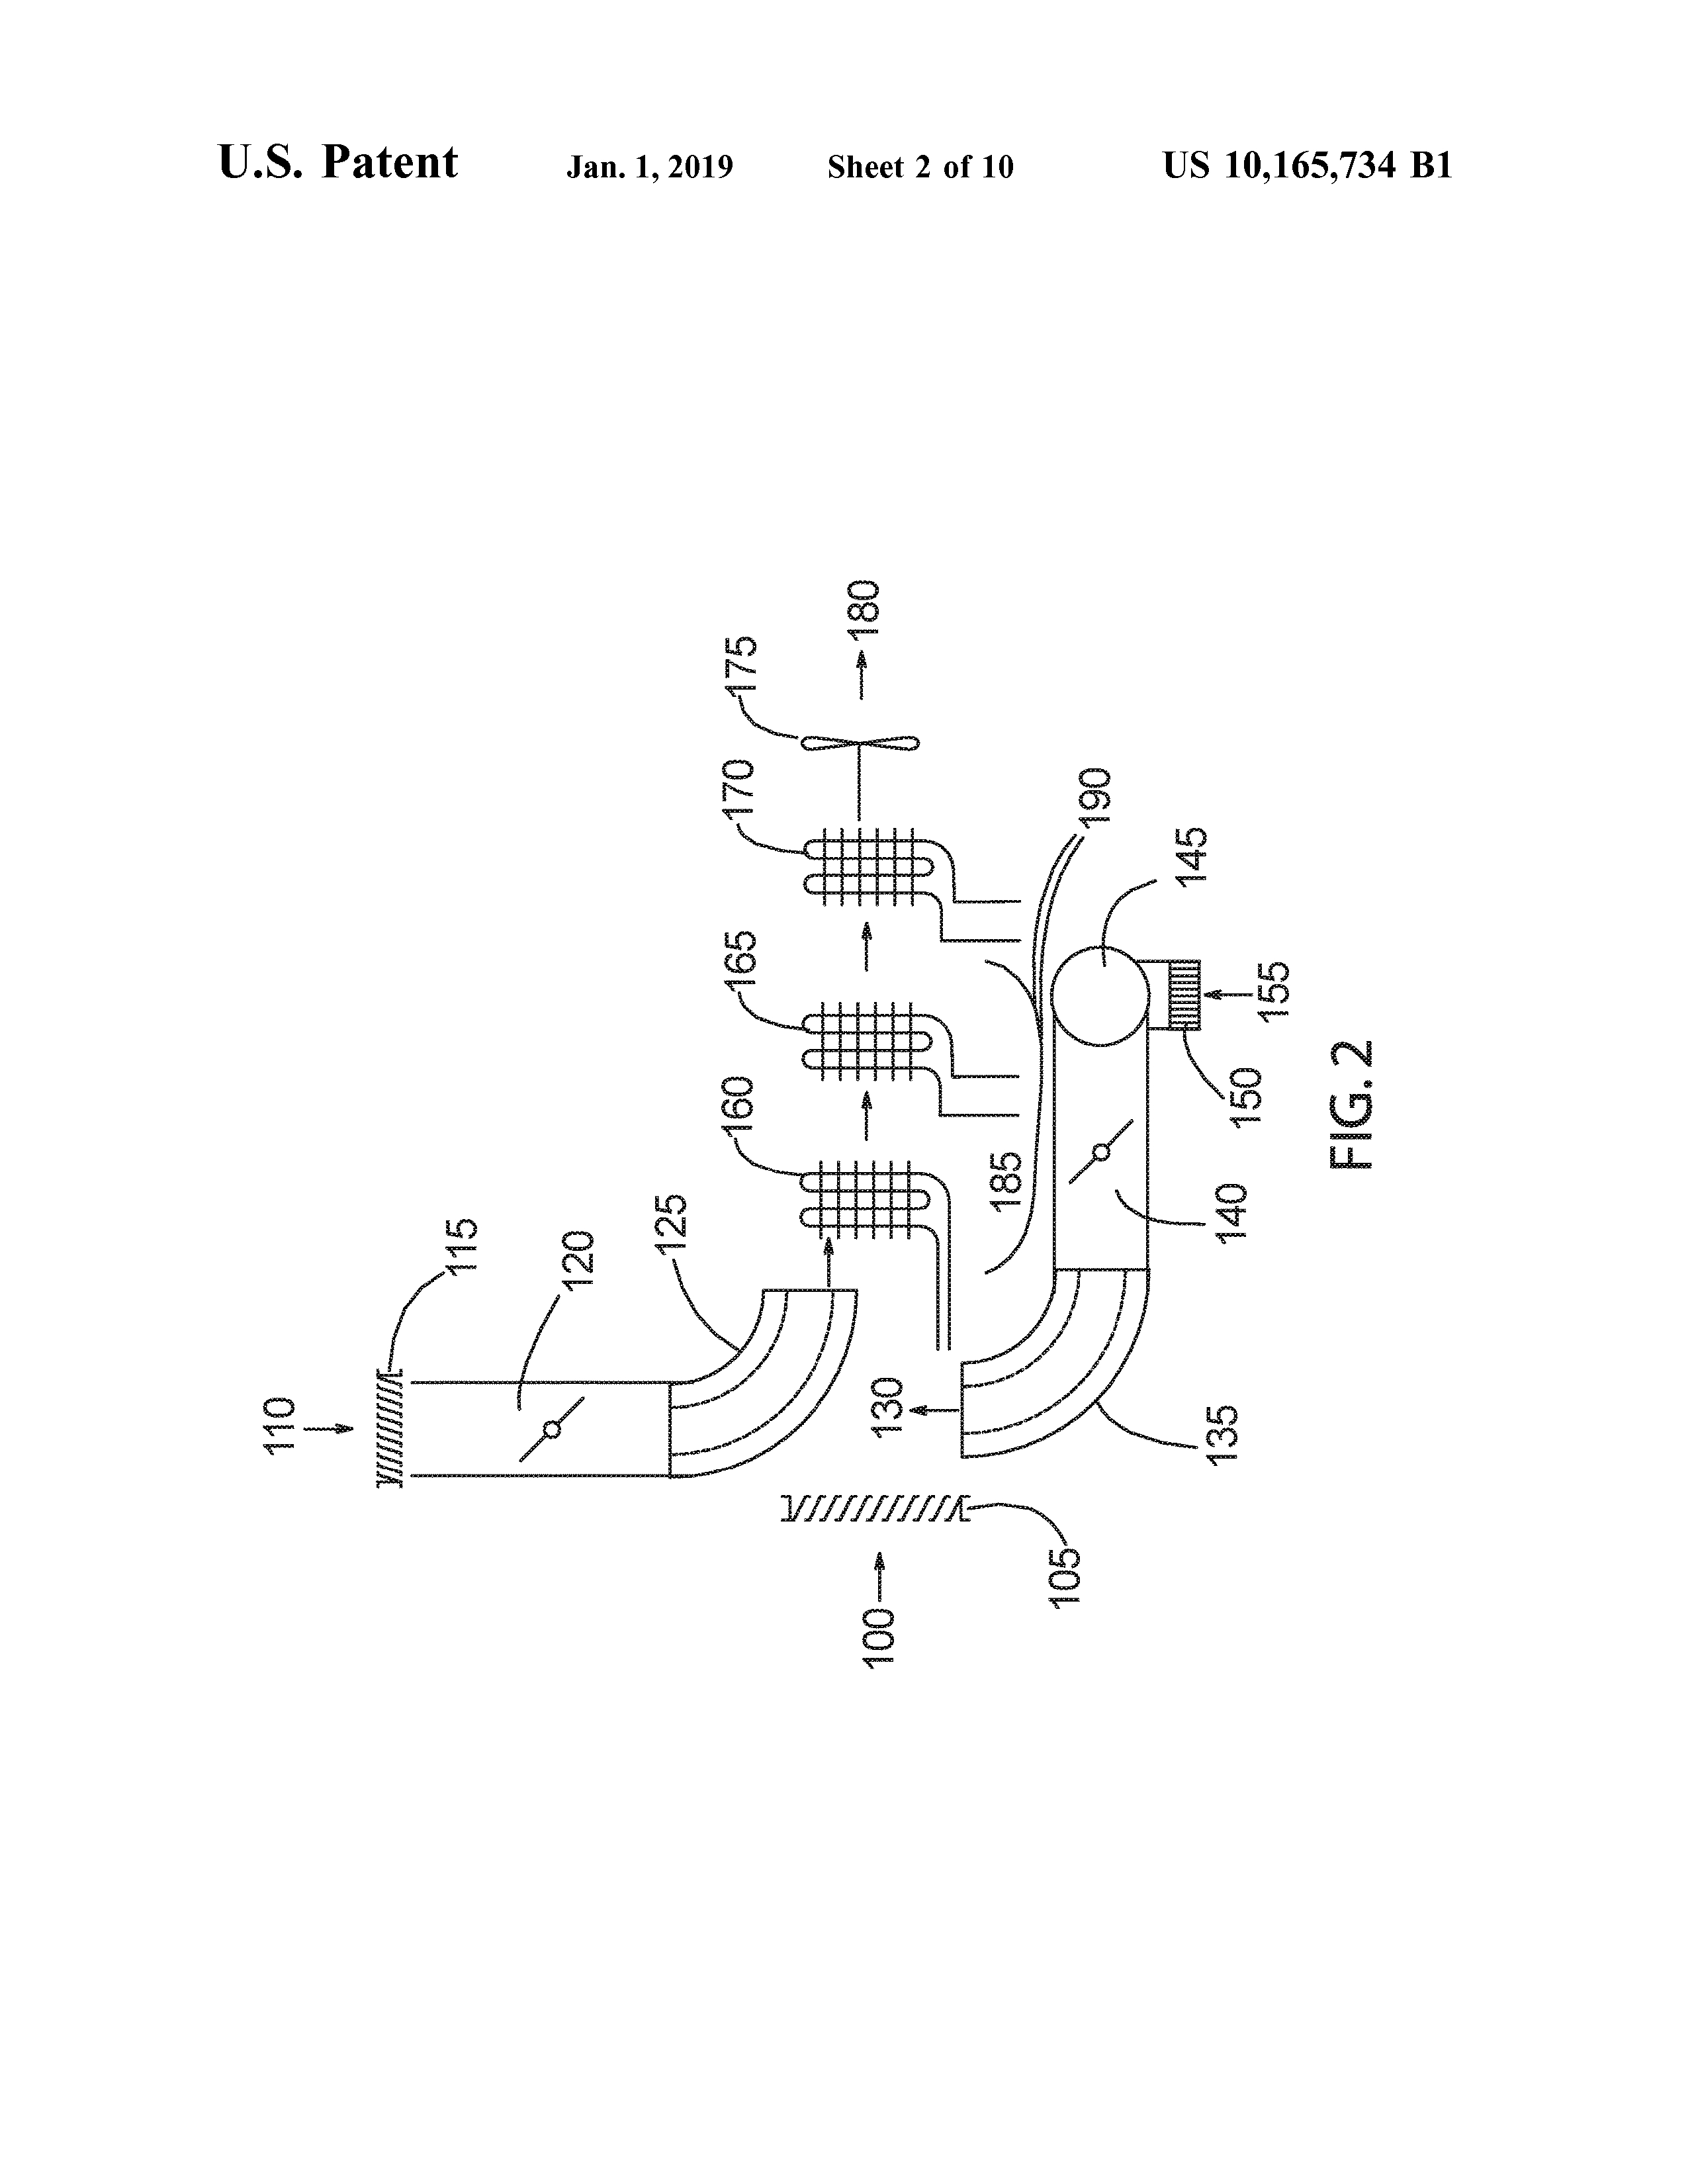patent image: (238, 544, 1421, 1721)
